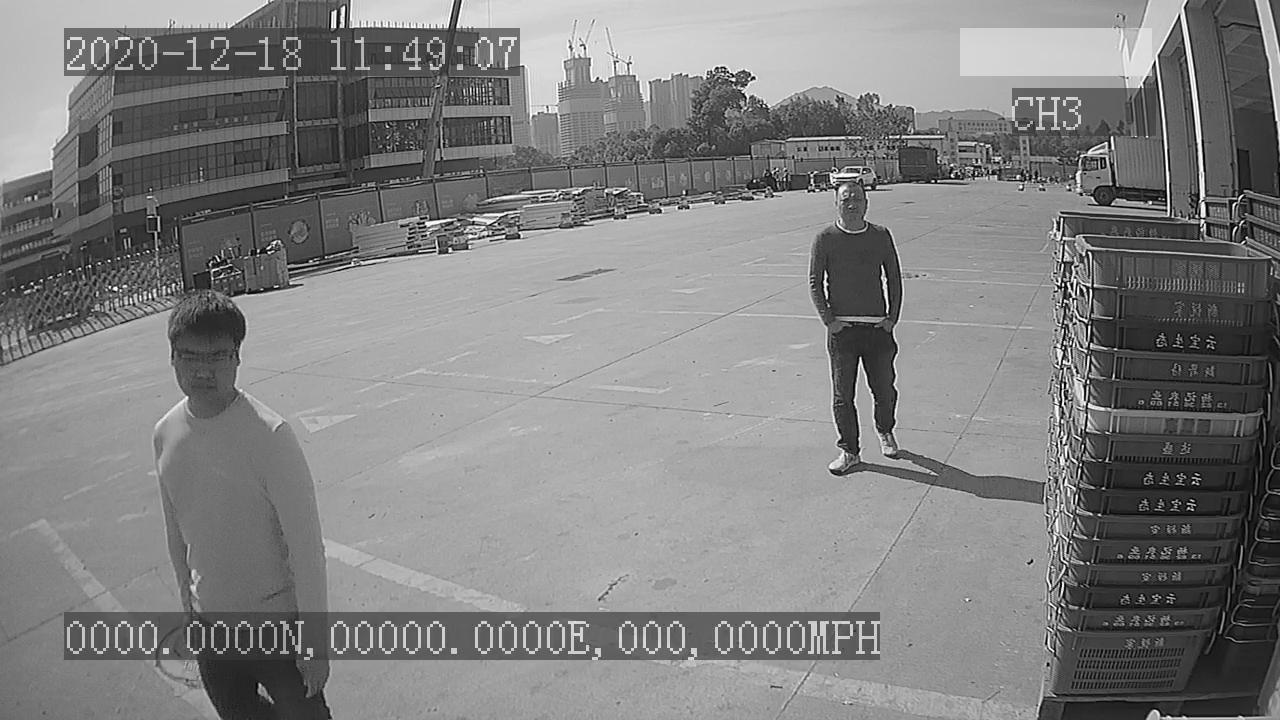person: (804, 179, 908, 479)
